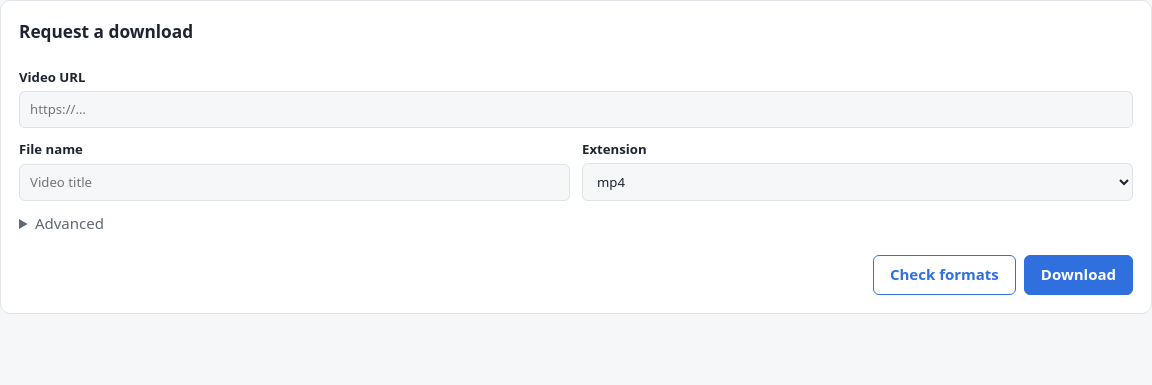
DownloadForm › warns when the URL is already downloading
In the field labelled "Video URL": (576,110) [19, 91, 1133, 128], type "https://example.com/v"
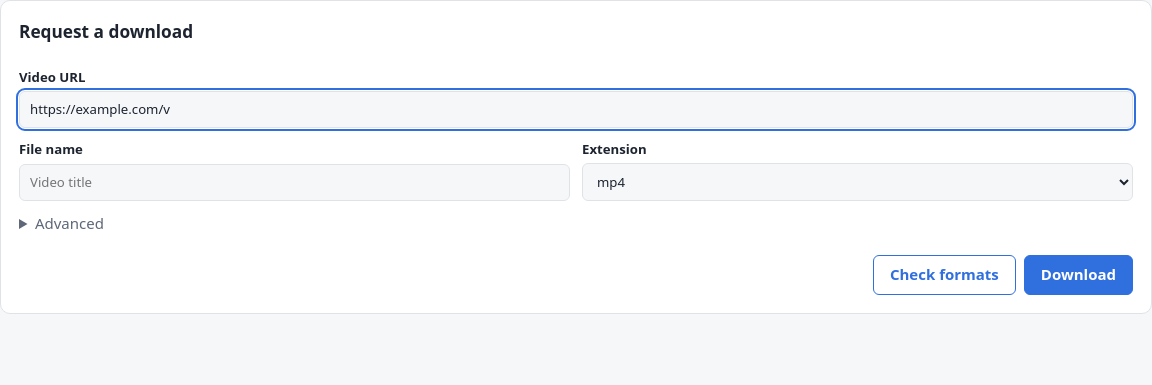
Click the button "Download": (1078,275) [1024, 255, 1133, 295]
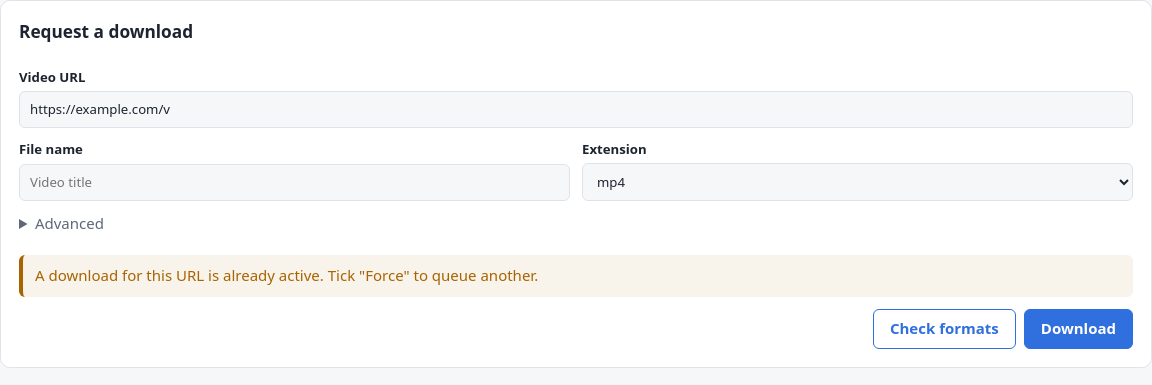
Expected: the text "A download for this URL is already active. Tick \"Force\" to queue another." is shown, [19, 255, 1133, 297]
